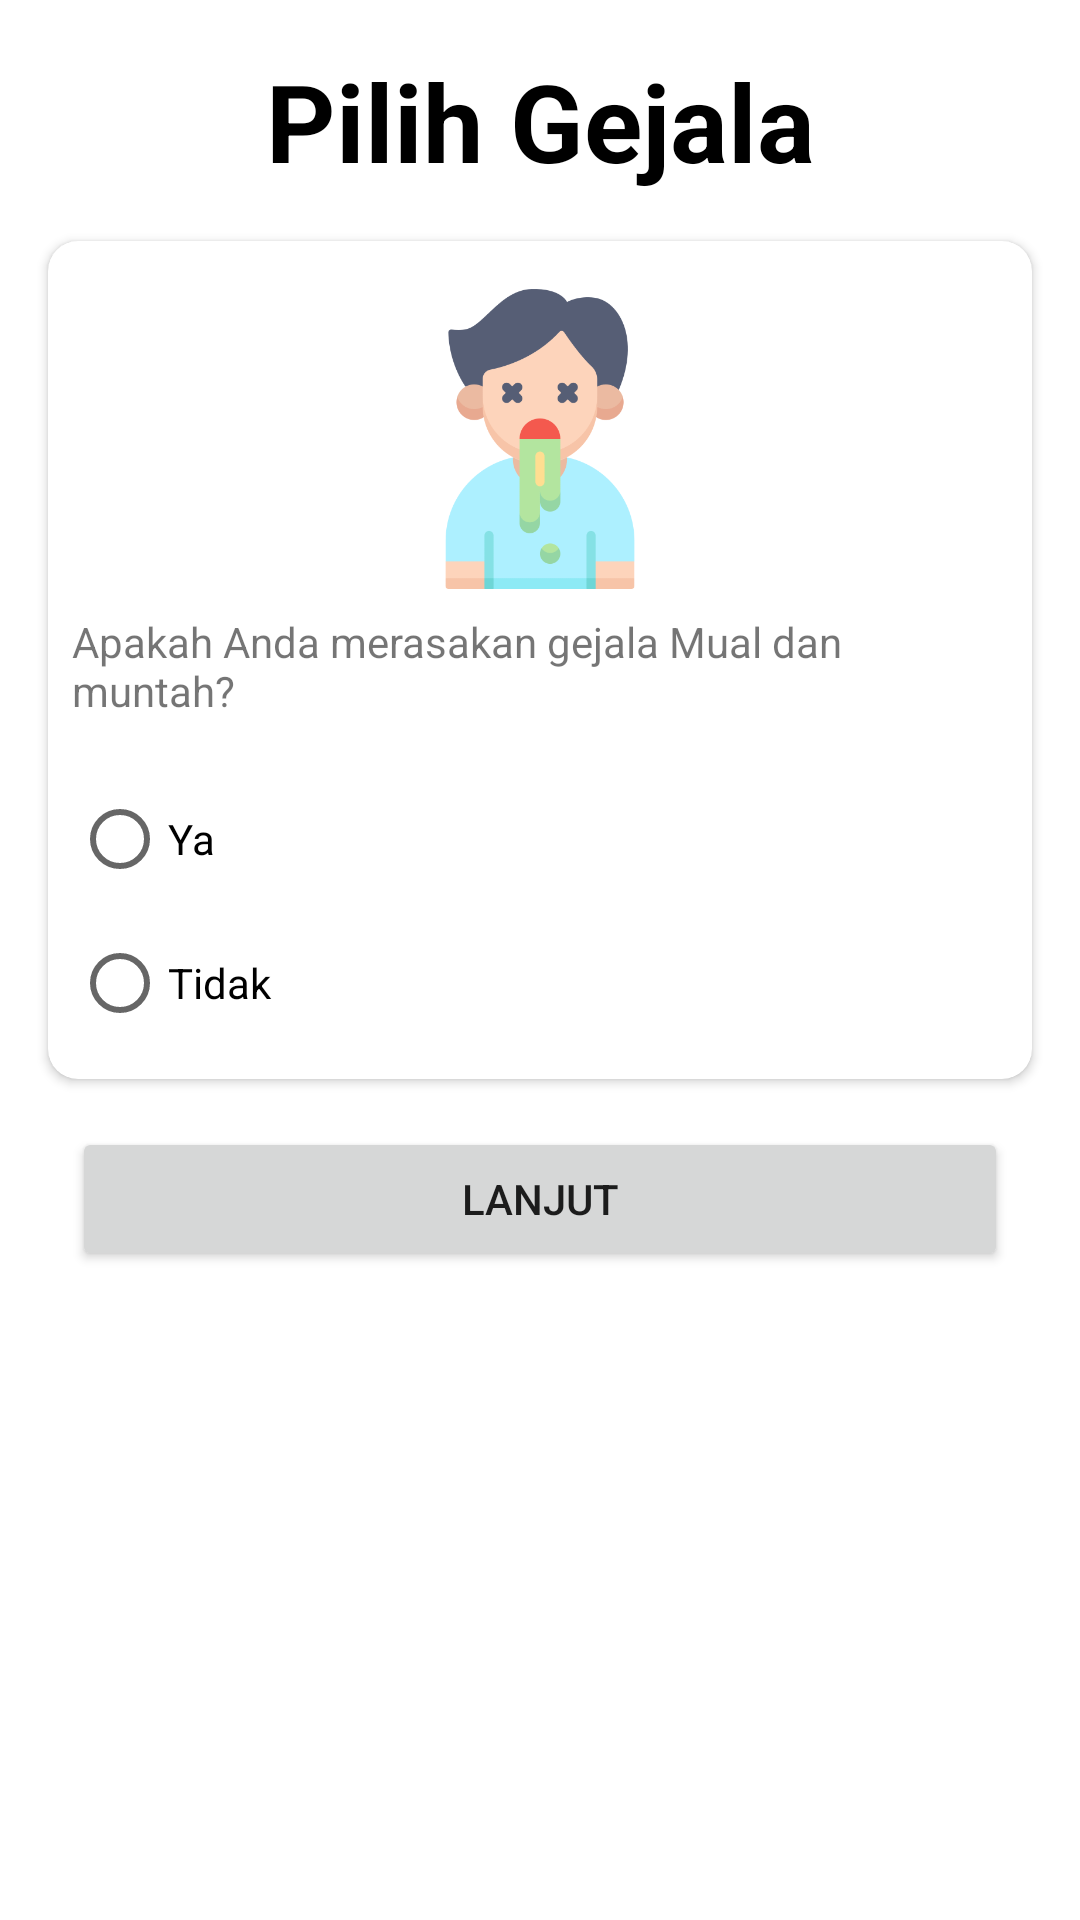

Locate icon controls on the screen. Image size 1080w x 1920h, boxes as (x1, y1, x2, y2).
vomiting: (445, 289, 635, 589)
